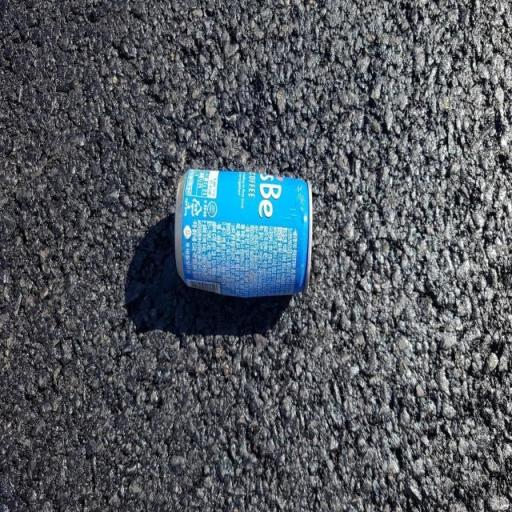metal: (156, 143, 324, 322)
